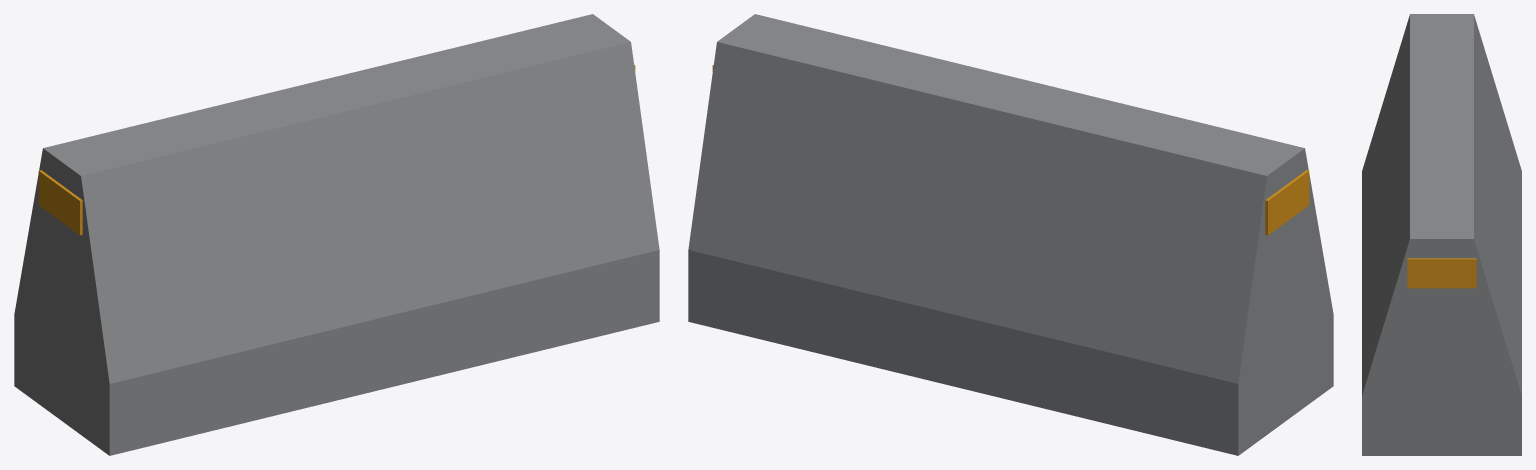
The model's file is road_barrier.glb.
3 views of the same model, side by side, from view 1: azimuth 30°, elevation 25°; view 2: azimuth 150°, elevation 25°; view 3: azimuth 270°, elevation 25° (orthographic). The views are drawn at different scales.
Visible parts, largest first — view 1: model; view 2: model; view 3: model.
Boxes of the visible parts, box(x1,y1,x2,y2) form: model: box(14, 14, 659, 455); model: box(688, 14, 1333, 455); model: box(1362, 14, 1521, 455).
Size of the model in its own units: 2.02 by 0.9 by 0.6.
